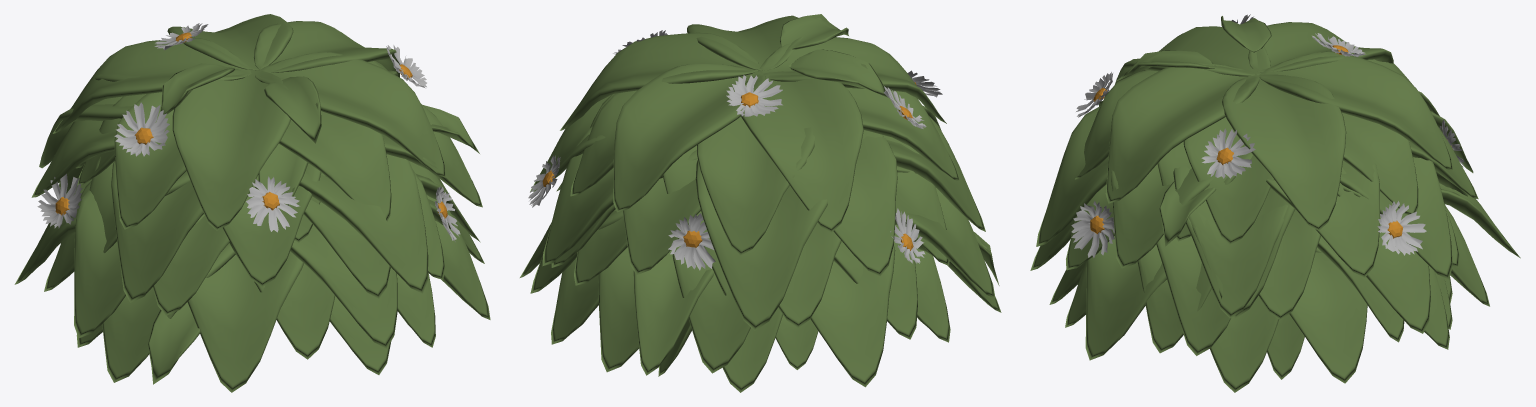
The model's file is bushdadnelion.fbx.
3 renders of one model, left to right at view 1: azimuth 30°, elevation 25°; view 2: azimuth 150°, elevation 25°; view 3: azimuth 270°, elevation 25°, orthographic. The views are drawn at different scales.
Parts seen in each view (by area): view 1: polySurface311; view 2: polySurface311; view 3: polySurface311.
Part boxes in pixels (box(x1,y1,x2,y2)): polySurface311: box(14, 14, 490, 392); polySurface311: box(520, 14, 1001, 392); polySurface311: box(1030, 14, 1520, 392).
Bounding box in the file's own units: 2.36 × 1.43 × 2.53.
